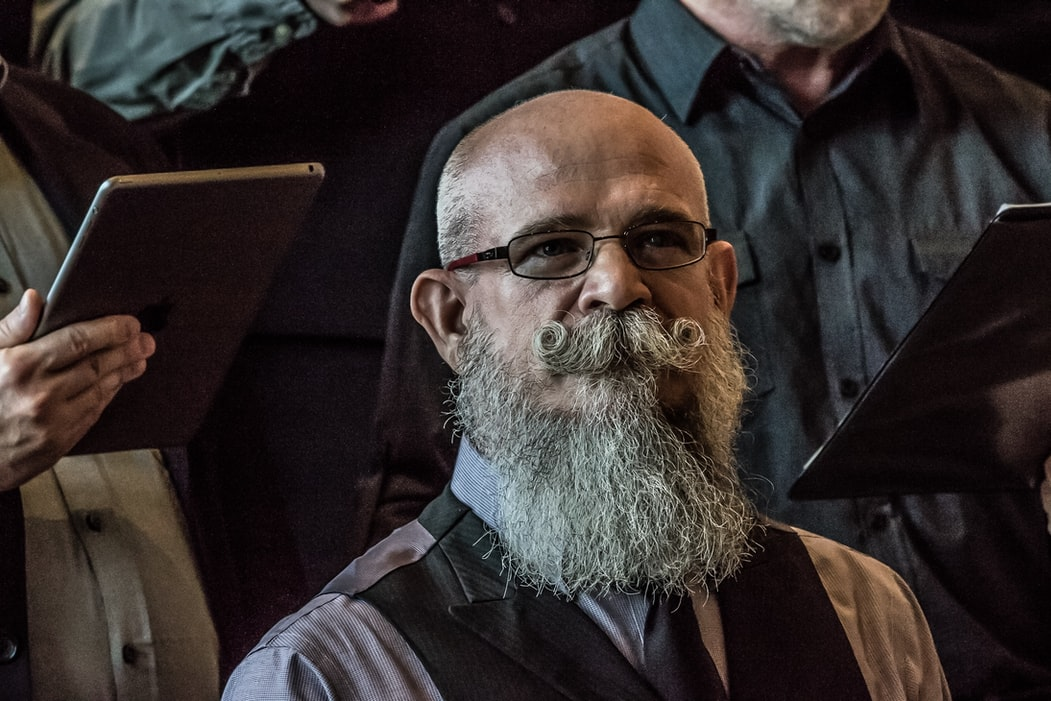beard: (447, 329, 777, 608)
glasses: (472, 222, 729, 292)
